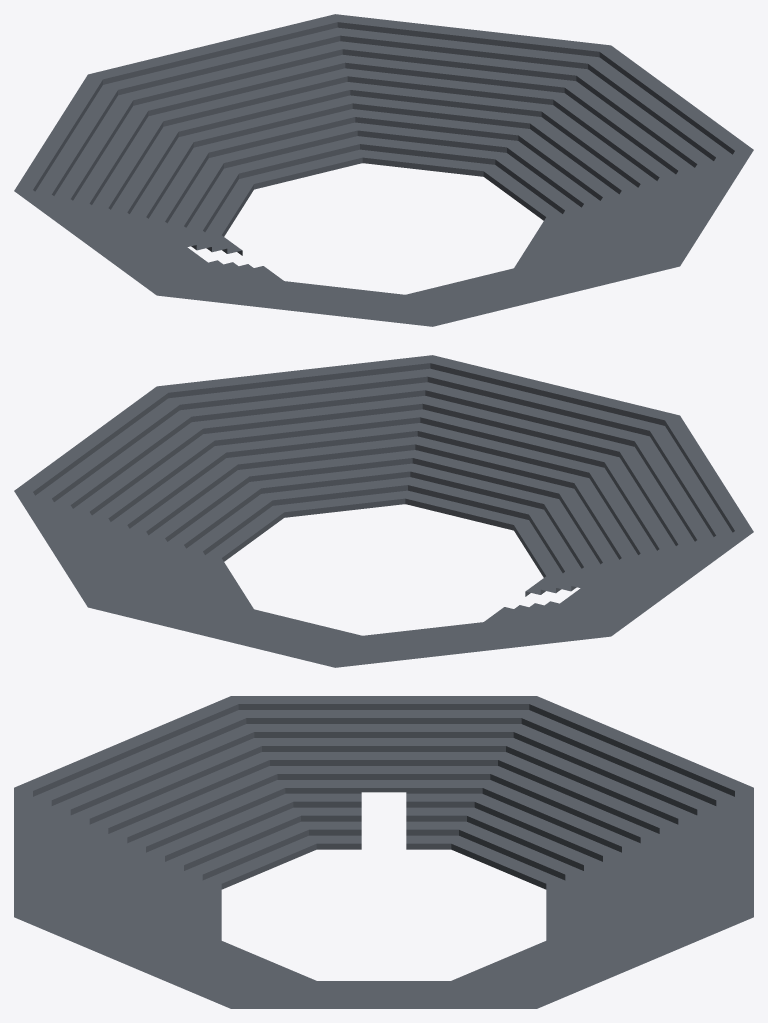
Rendered from Arena_seats_constructions.fbx.
3 renders of one model, top to bottom at view 1: azimuth 30°, elevation 25°; view 2: azimuth 150°, elevation 25°; view 3: azimuth 270°, elevation 25°, orthographic. The views are drawn at different scales.
Visible parts, largest first — view 1: Constructions.001; view 2: Constructions.001; view 3: Constructions.001.
Part boxes in pixels (x1=…): Constructions.001: x1=14, y1=14, x2=753, y2=326; Constructions.001: x1=14, y1=355, x2=753, y2=667; Constructions.001: x1=14, y1=696, x2=753, y2=1008.
Size of the model in its own units: 5611 by 550 by 5611.
